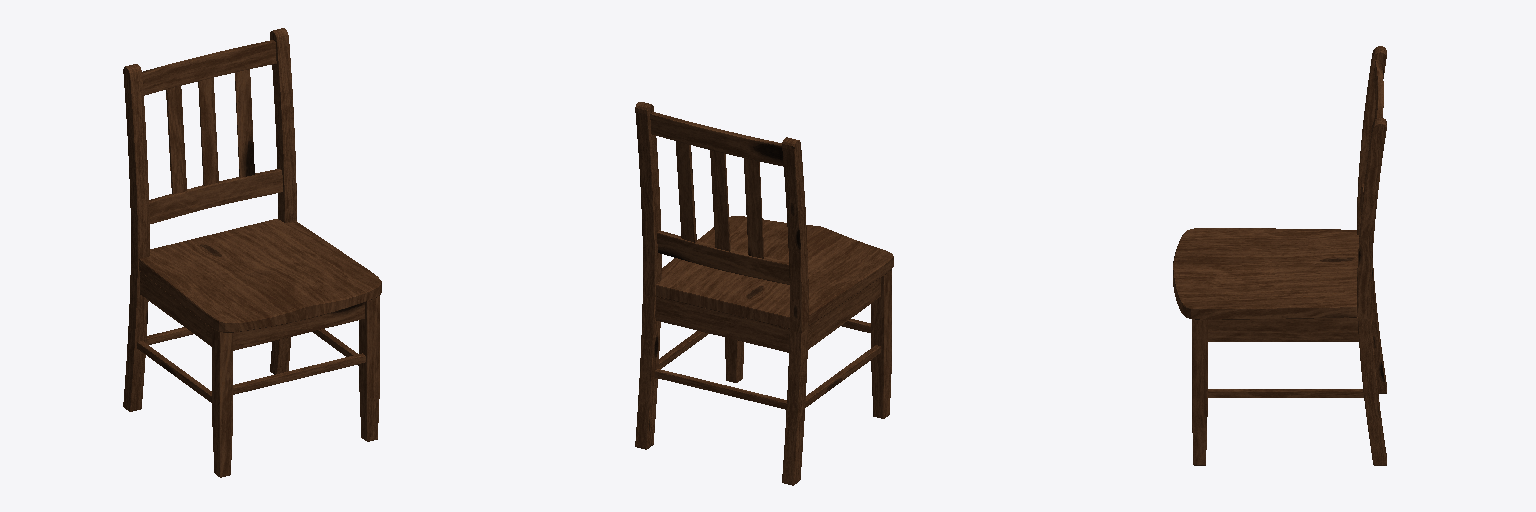
3 renders of one model, left to right at view 1: azimuth 30°, elevation 25°; view 2: azimuth 150°, elevation 25°; view 3: azimuth 270°, elevation 25°, orthographic.
Parts seen in each view (by area): view 1: Cube.009, Cube.020, Cube.025, Cube.021, Cube.028, Cube.026, Cube.104, Cube.023; view 2: Cube.020, Cube.009, Cube.025, Cube.028, Cube.021, Cube.104, Cube.026, Cube.023; view 3: Cube.009, Cube.020, Cube.023, Cube.021, Cube.026, Cube.025.
Boxes of the visible parts, box(x1,y1,x2,y2) form: Cube.009: box(139, 219, 381, 332); Cube.020: box(123, 28, 296, 411); Cube.025: box(142, 40, 282, 223); Cube.021: box(212, 296, 379, 477); Cube.028: box(166, 69, 254, 194); Cube.026: box(137, 327, 365, 402); Cube.104: box(233, 302, 364, 350); Cube.023: box(140, 272, 211, 346); Cube.020: box(635, 102, 808, 485); Cube.009: box(656, 216, 893, 328); Cube.025: box(650, 112, 789, 284); Cube.028: box(676, 141, 763, 258); Cube.021: box(725, 270, 891, 418); Cube.104: box(656, 296, 789, 352); Cube.026: box(655, 319, 880, 409); Cube.023: box(808, 278, 880, 349); Cube.009: box(1173, 228, 1358, 319); Cube.020: box(1357, 46, 1386, 465); Cube.023: box(1208, 317, 1358, 341); Cube.021: box(1192, 319, 1207, 465); Cube.026: box(1208, 389, 1363, 397); Cube.025: box(1360, 60, 1383, 210).
Size of the model in its own units: 0.4373 by 0.8595 by 0.488.
Materials: 1 (1 with a texture image).